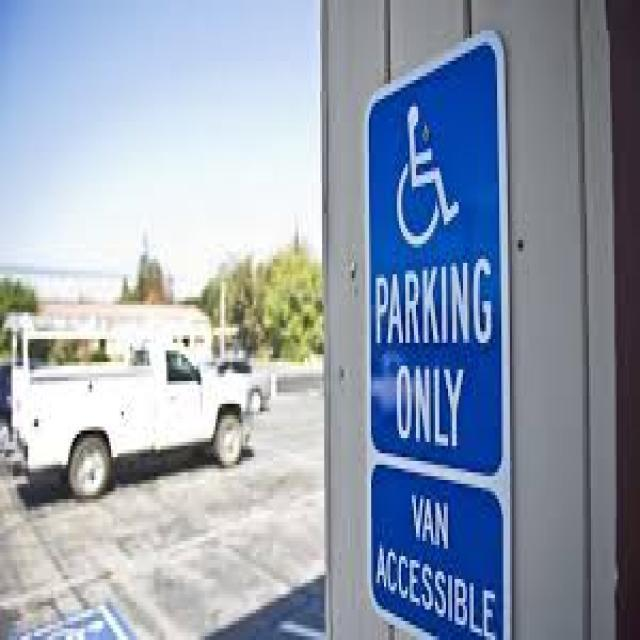symbol_of_access: (397, 108, 460, 248)
